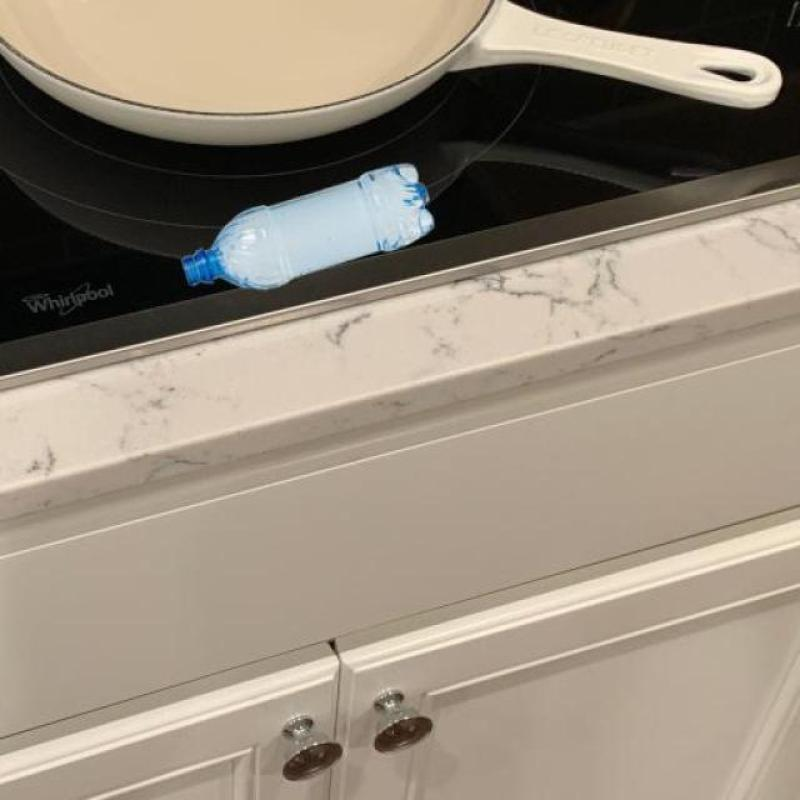botella: (180, 163, 434, 293)
